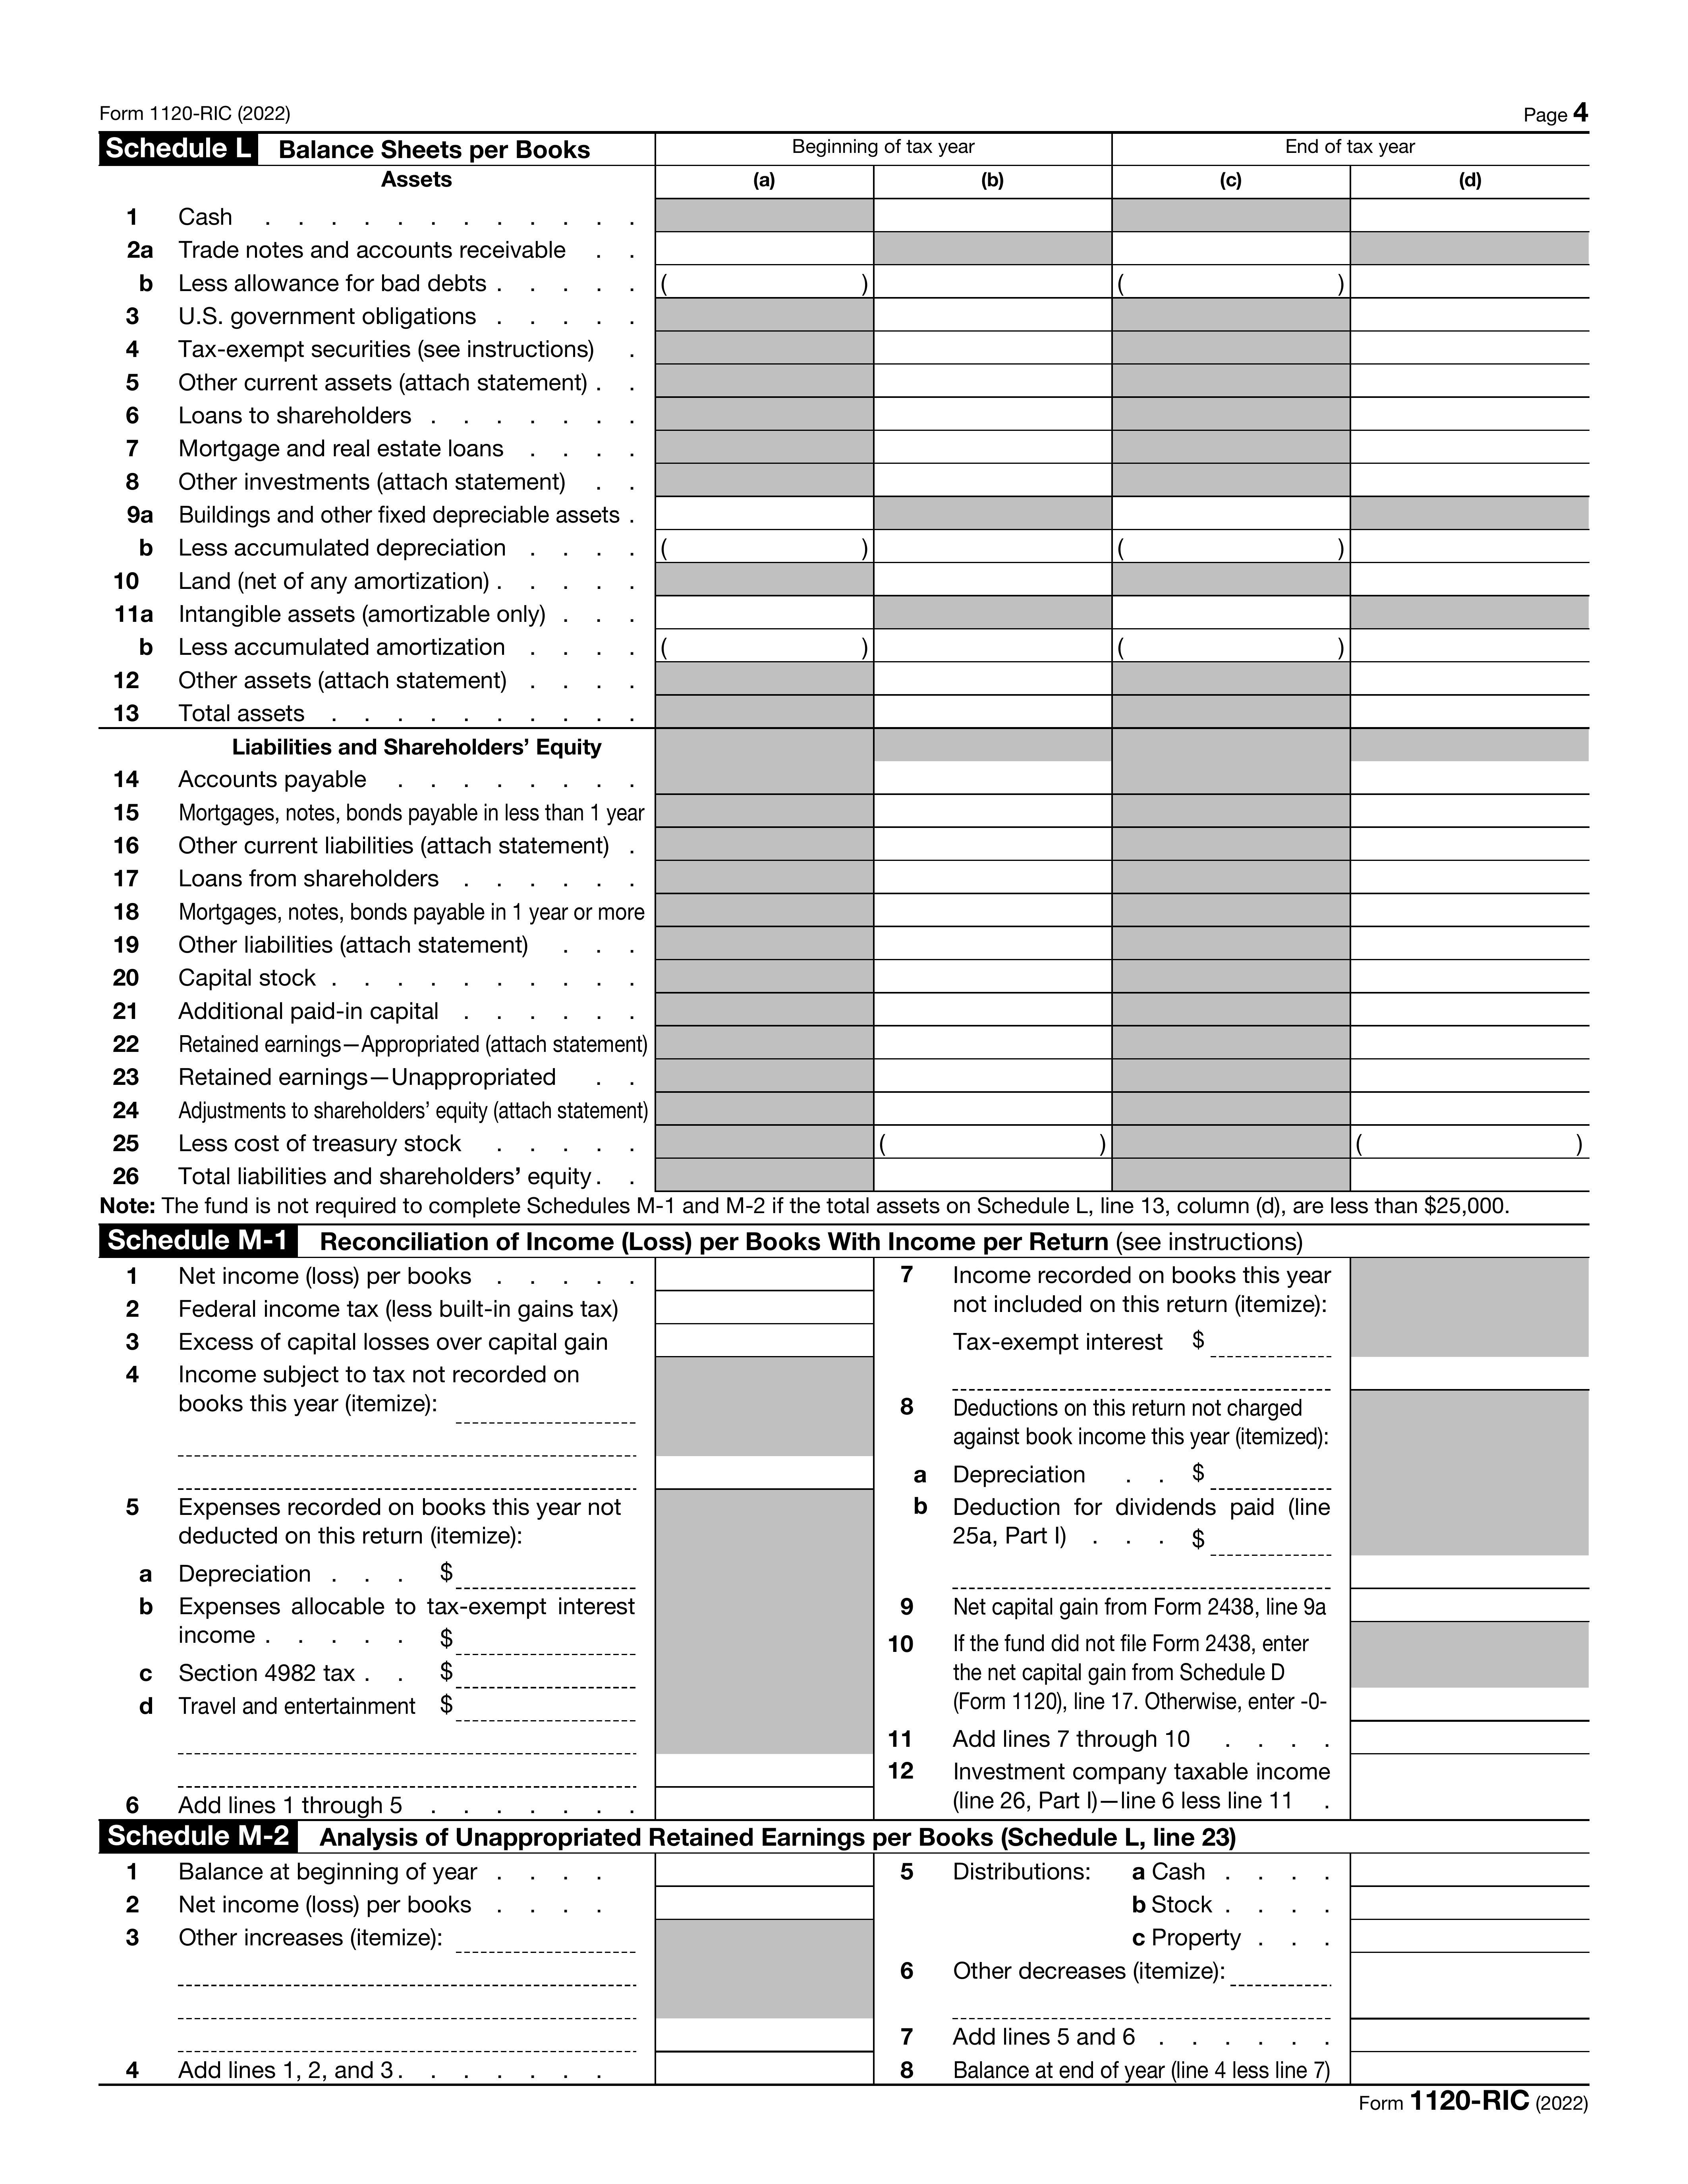table: (85, 129, 1605, 1195), (101, 1262, 885, 1817), (890, 1257, 1606, 1817), (90, 1858, 885, 2094), (883, 1853, 1617, 2083)
